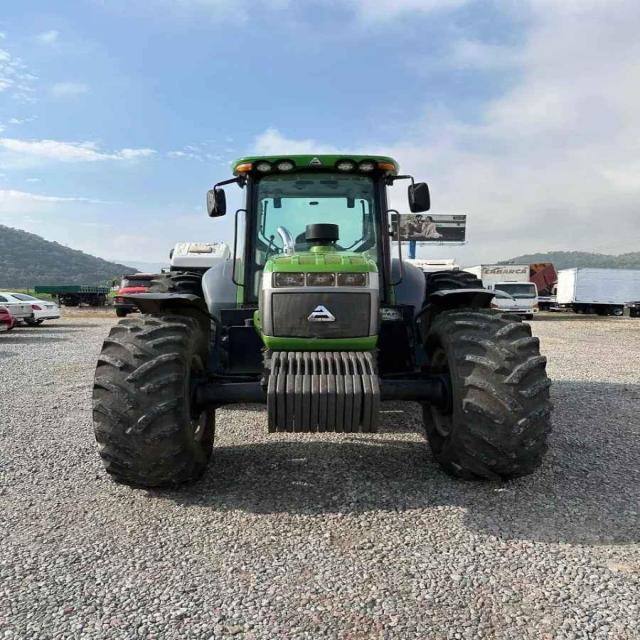Tratores - v5 YOLO V8L 2024-11-13: (89, 150, 544, 498)
